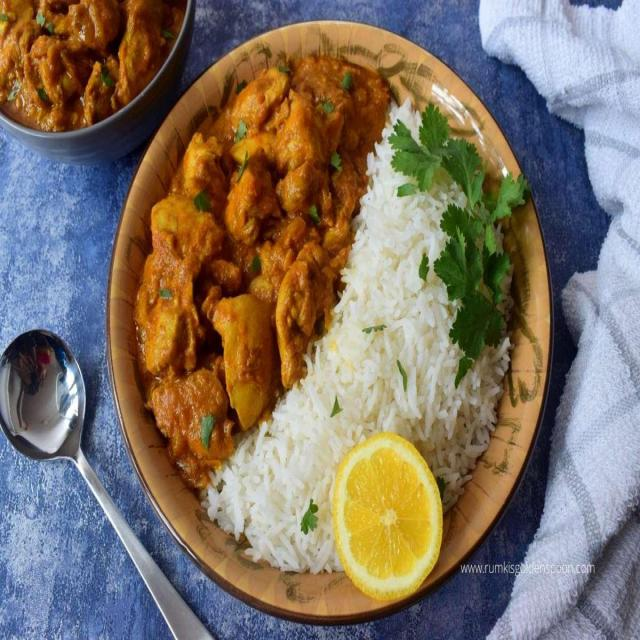chicken: (134, 35, 342, 438), (1, 7, 174, 121)
rice: (212, 82, 508, 576)
